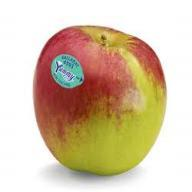apple: (35, 28, 166, 174)
